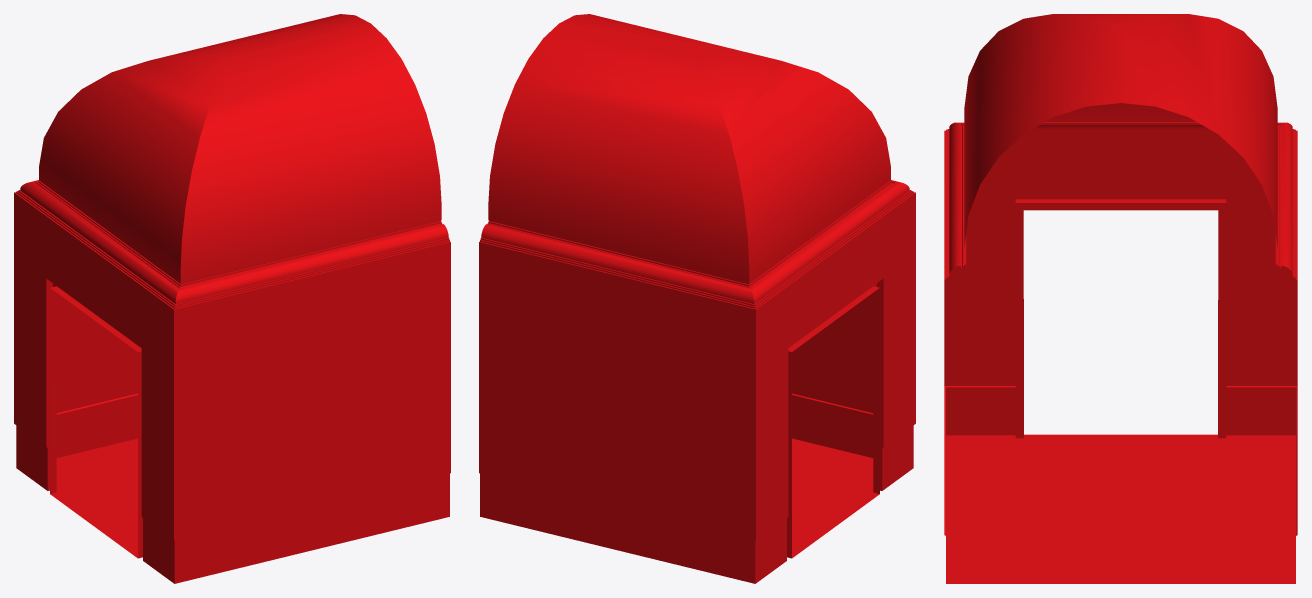
File: Corridor_1Output.fbx
3 views of the same model, side by side, from view 1: azimuth 30°, elevation 25°; view 2: azimuth 150°, elevation 25°; view 3: azimuth 270°, elevation 25° (orthographic). The views are drawn at different scales.
Visible parts, largest first — view 1: Grande salle intermediaire.001; view 2: Grande salle intermediaire.001; view 3: Grande salle intermediaire.001.
Part boxes in pixels (bbox=[...]): Grande salle intermediaire.001: bbox=[14, 14, 450, 583]; Grande salle intermediaire.001: bbox=[479, 14, 915, 583]; Grande salle intermediaire.001: bbox=[944, 14, 1297, 583].
Bounding box in the file's own units: 800 × 1202 × 800.
